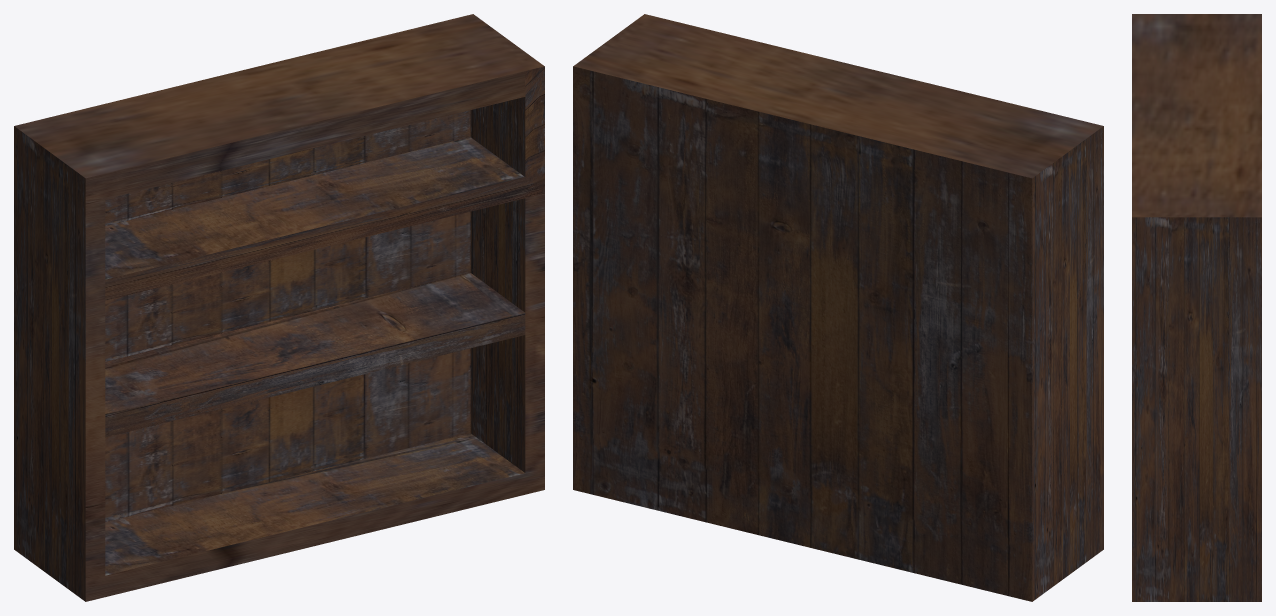
The model's file is ShelfWide.fbx.
3 renders of one model, left to right at view 1: azimuth 30°, elevation 25°; view 2: azimuth 150°, elevation 25°; view 3: azimuth 270°, elevation 25°, orthographic. The views are drawn at different scales.
Parts seen in each view (by area): view 1: Cube.002; view 2: Cube.002; view 3: Cube.002.
Boxes of the visible parts, bbox=[...] form: Cube.002: bbox=[14, 14, 544, 601]; Cube.002: bbox=[573, 14, 1103, 601]; Cube.002: bbox=[1132, 14, 1261, 601].
Bounding box in the file's own units: 347 × 306 × 93.71.
